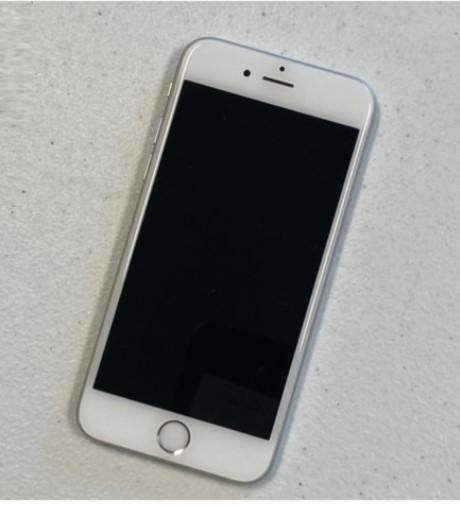Smart Phone: (77, 38, 379, 484)
